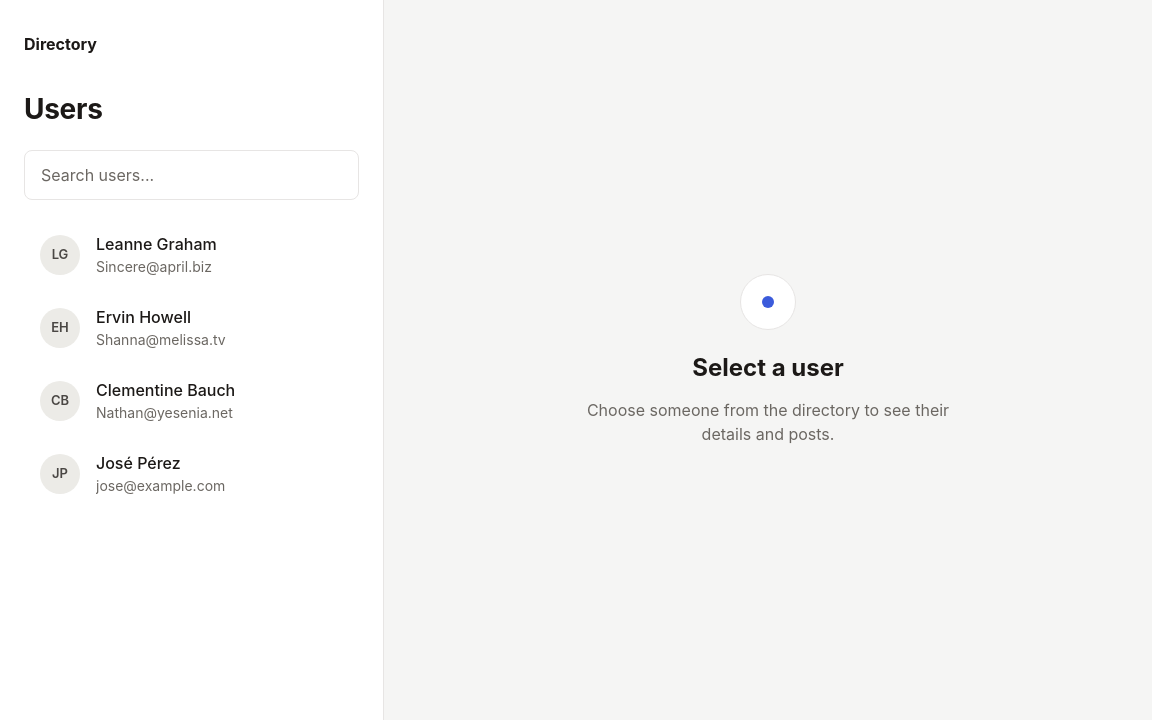
Scenario: User posts › shows the user header and their posts after a loading state
Click the button "LG Leanne Graham Sincere@april.biz" at (192, 254), box [24,220,359,289]
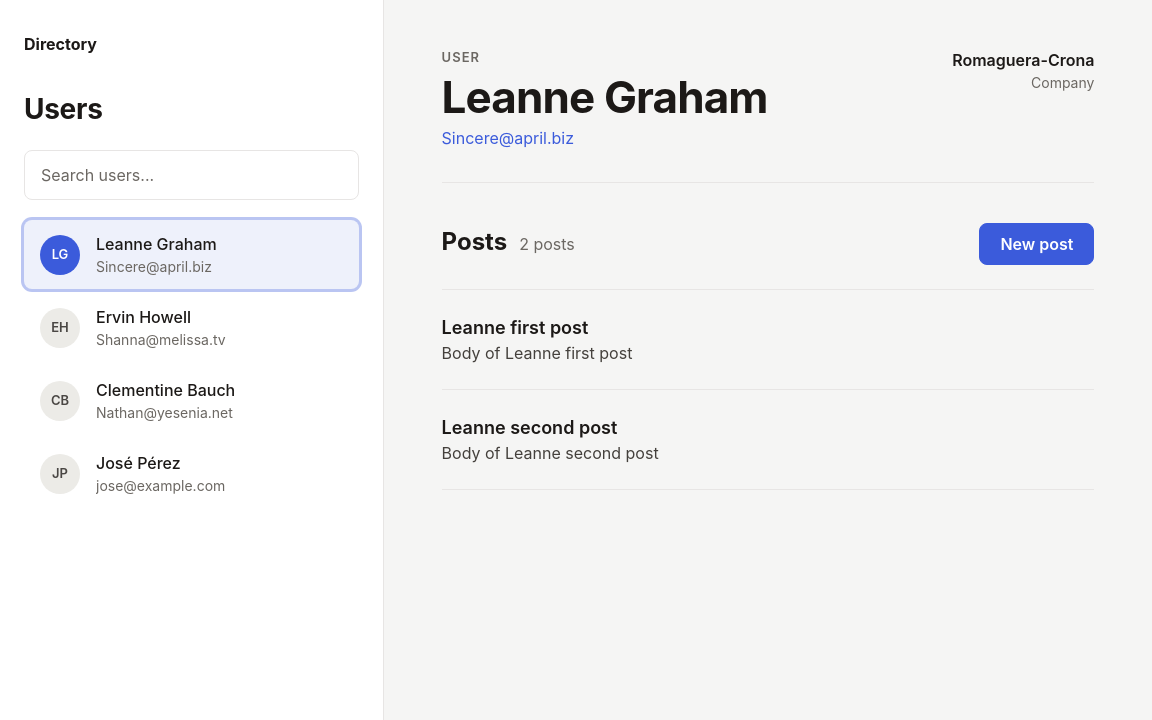
Check: the heading "Leanne Graham" is shown, box [442,72,768,122]
Check: the text "Romaguera-Crona" is shown, box [952,48,1094,72]
Check: the heading "Leanne first post" is shown, box [442,317,588,338]
